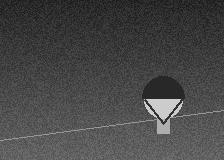helmet: (142, 76, 184, 123)
